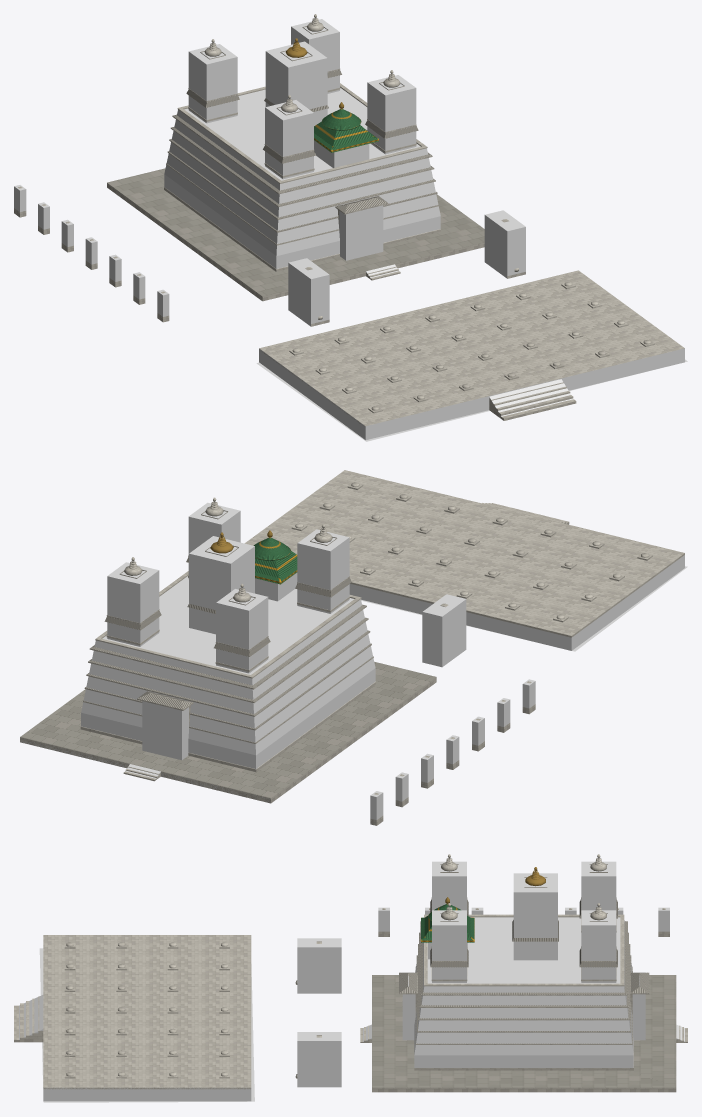
The model's file is wutasi.glb.
3 renders of one model, top to bottom at view 1: azimuth 30°, elevation 25°; view 2: azimuth 150°, elevation 25°; view 3: azimuth 270°, elevation 25°, orthographic. The views are drawn at different scales.
Visible parts, largest first — view 1: Ruin, COL_platform, Massing, Platform, COL_ruin, COL_pagodaM, COL_pagoda1, COL_pagoda0, COL_pagoda2, COL_stele_big0, COL_stele_big1, COL_gate-1 (+4 smaller); view 2: Ruin, COL_platform, Massing, Platform, COL_ruin, COL_pagodaM, COL_pagoda1, COL_pagoda0, COL_pagoda3, COL_stele_big0, COL_gate1, COL_pagoda2 (+2 smaller); view 3: Ruin, COL_platform, Massing, Platform, COL_pagodaM, COL_ruin, COL_stele_big0, COL_stele_big1, COL_pagoda3, COL_pagoda2, COL_pagoda1, COL_pagoda0 (+7 smaller).
Boxes of the visible parts, x1=… form: Ruin: x1=259, y1=270, x2=684, y2=426; COL_platform: x1=164, y1=88, x2=440, y2=268; Massing: x1=107, y1=18, x2=484, y2=301; Platform: x1=164, y1=83, x2=440, y2=271; COL_ruin: x1=259, y1=348, x2=684, y2=440; COL_pagodaM: x1=265, y1=41, x2=327, y2=125; COL_pagoda1: x1=188, y1=44, x2=237, y2=123; COL_pagoda0: x1=265, y1=100, x2=313, y2=179; COL_pagoda2: x1=367, y1=75, x2=416, y2=154; COL_stele_big0: x1=288, y1=258, x2=329, y2=326; COL_stele_big1: x1=484, y1=210, x2=525, y2=278; COL_gate-1: x1=339, y1=205, x2=383, y2=260; Ruin: x1=244, y1=470, x2=684, y2=637; COL_platform: x1=81, y1=576, x2=375, y2=768; Massing: x1=20, y1=502, x2=436, y2=803; Platform: x1=26, y1=571, x2=375, y2=801; COL_ruin: x1=349, y1=555, x2=684, y2=650; COL_pagodaM: x1=189, y1=536, x2=254, y2=634; COL_pagoda1: x1=216, y1=589, x2=268, y2=673; COL_pagoda0: x1=297, y1=529, x2=349, y2=613; COL_pagoda3: x1=107, y1=562, x2=159, y2=646; COL_stele_big0: x1=422, y1=594, x2=466, y2=667; COL_gate1: x1=142, y1=701, x2=188, y2=760; COL_pagoda2: x1=188, y1=502, x2=240, y2=578; Ruin: x1=14, y1=935, x2=251, y2=1089; COL_platform: x1=414, y1=917, x2=633, y2=1067; Massing: x1=372, y1=858, x2=676, y2=1092; Platform: x1=399, y1=914, x2=649, y2=1070; COL_pagodaM: x1=513, y1=873, x2=557, y2=960; COL_ruin: x1=43, y1=1087, x2=251, y2=1101; COL_stele_big0: x1=297, y1=938, x2=341, y2=993; COL_stele_big1: x1=297, y1=1032, x2=341, y2=1087; COL_pagoda3: x1=581, y1=910, x2=616, y2=982; COL_pagoda2: x1=432, y1=910, x2=466, y2=982; COL_pagoda1: x1=581, y1=861, x2=616, y2=910; COL_pagoda0: x1=432, y1=861, x2=466, y2=910.
Bounding box in the file's own units: 34.22 × 15.98 × 57.77.
Materials: 12 (9 with a texture image).
